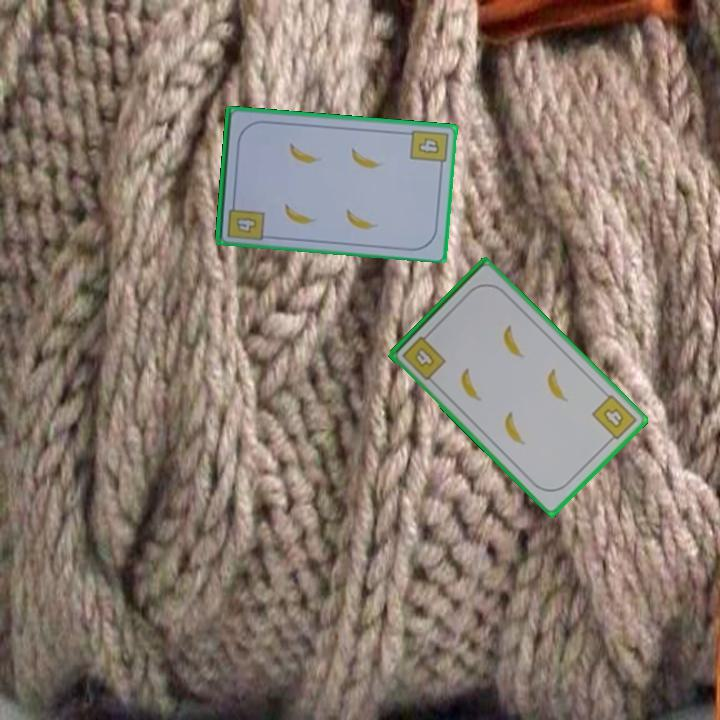4b: (588, 391, 640, 447), (398, 328, 449, 383), (223, 196, 267, 243), (407, 126, 451, 172)
